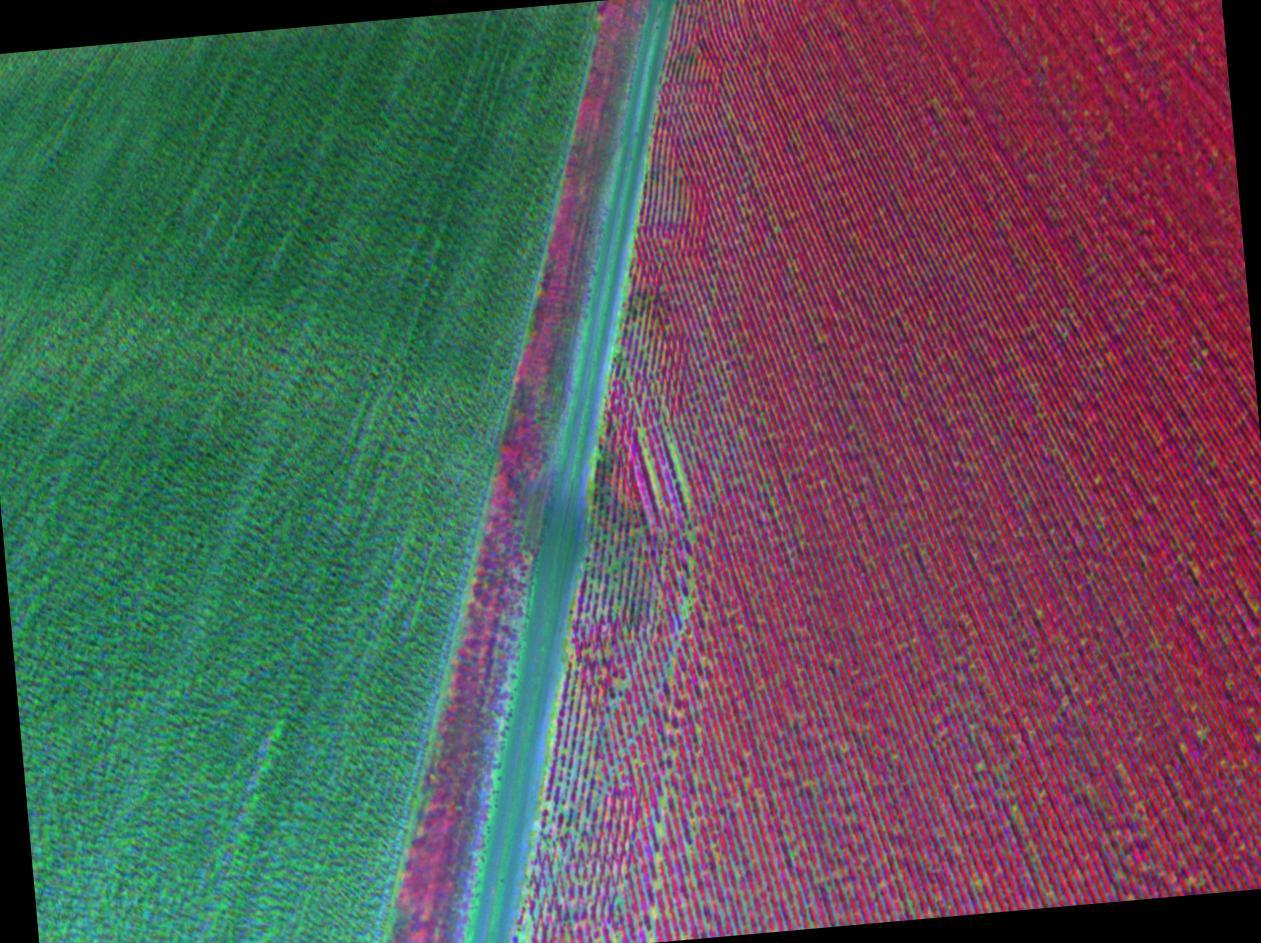dc: (662, 801, 666, 805), (660, 826, 664, 830), (1036, 612, 1039, 616), (651, 911, 654, 915), (776, 227, 778, 230), (977, 766, 979, 769), (657, 855, 660, 857), (647, 939, 650, 941)
